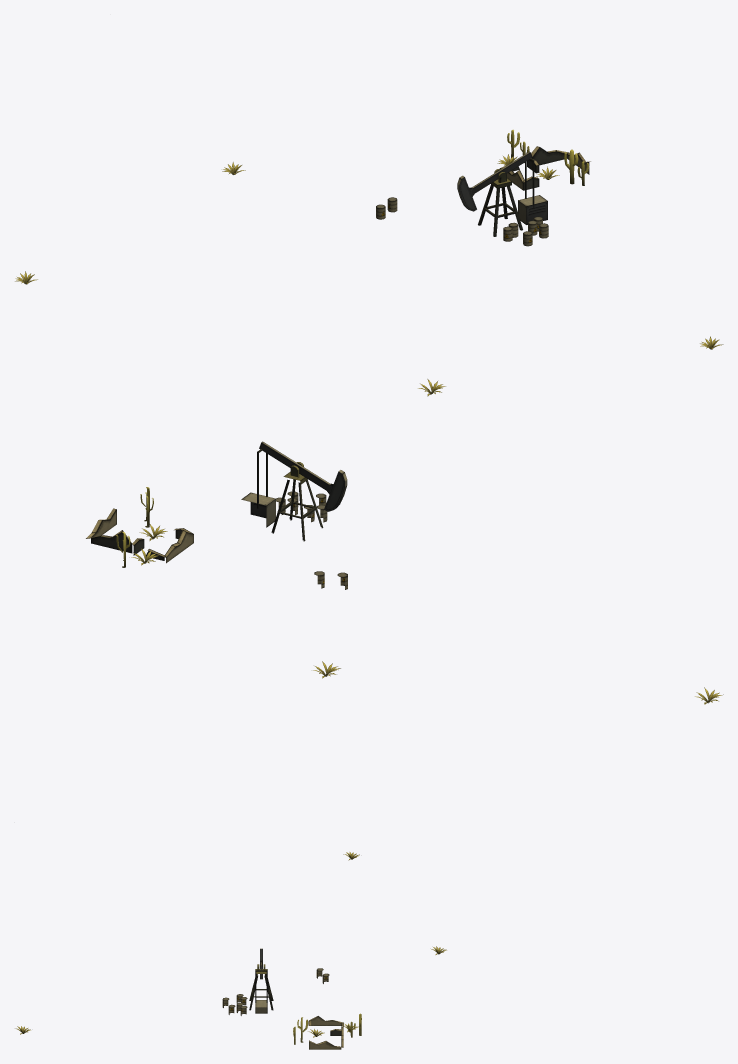
The model's file is T4_oilrig_house_base_bush_env.fbx.
3 views of the same model, one above another, from view 1: azimuth 30°, elevation 25°; view 2: azimuth 150°, elevation 25°; view 3: azimuth 270°, elevation 25° (orthographic). The views are drawn at different scales.
Parts seen in each view (by area): view 1: oil_rig_03; view 2: oil_rig_03; view 3: oil_rig_03.
Boxes of the visible parts, x1,y1,x2,y2 form: oil_rig_03: (15, 129, 723, 349); oil_rig_03: (86, 379, 723, 704); oil_rig_03: (15, 852, 446, 1049).
Size of the model in its own units: 265 by 38.32 by 406.
